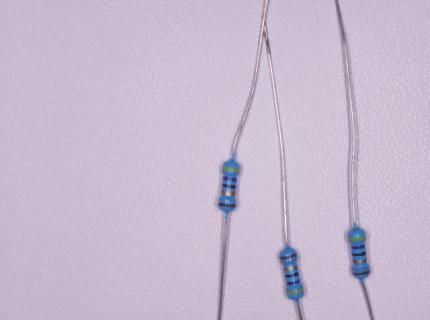Gold band: (221, 190, 236, 197), (283, 265, 298, 271), (353, 258, 367, 264)
Violet band: (286, 279, 300, 285), (223, 177, 237, 182), (351, 244, 365, 249)
Yellow band: (286, 288, 303, 295), (223, 167, 240, 173), (348, 236, 366, 241)
